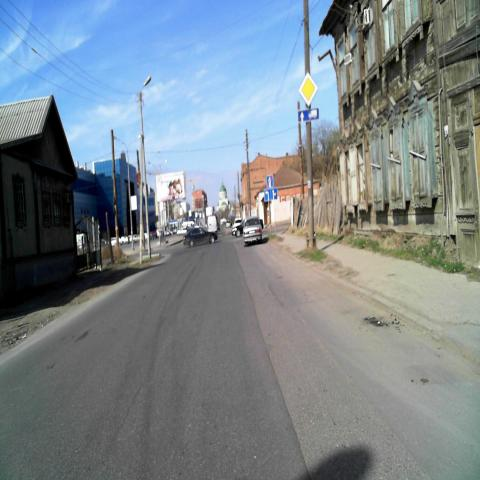5_6: (266, 175, 274, 188)
6_15_1: (298, 108, 319, 123)
